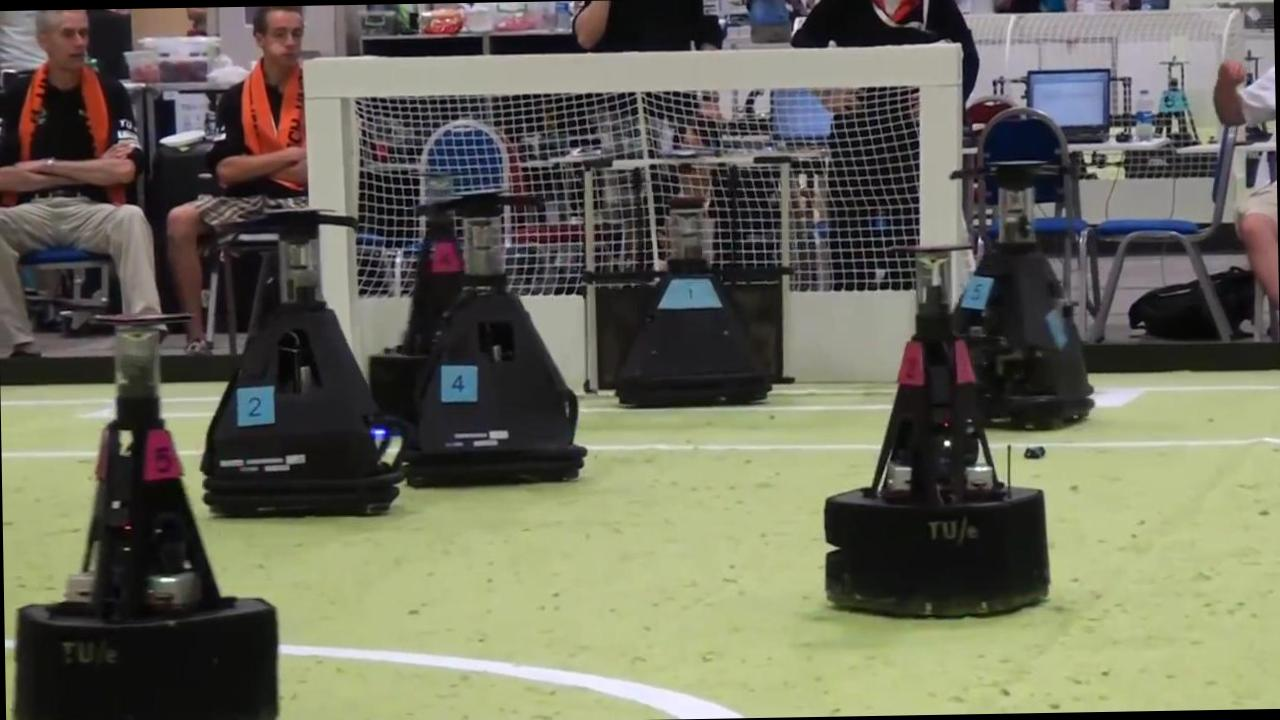robot: (13, 317, 279, 720), (825, 248, 1047, 616), (202, 211, 402, 517), (582, 153, 792, 405), (407, 193, 582, 484), (957, 166, 1093, 428), (370, 203, 464, 424)
